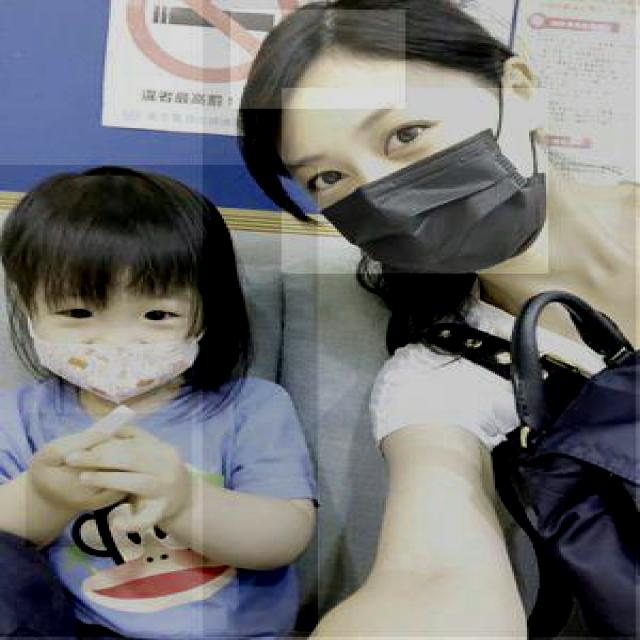face_mask: (282, 88, 548, 274), (26, 278, 204, 405)
hand_noglove: (26, 413, 194, 549)
head_nohelmet: (230, 10, 408, 110), (47, 179, 211, 282)
person: (203, 0, 638, 638), (0, 165, 320, 638)
